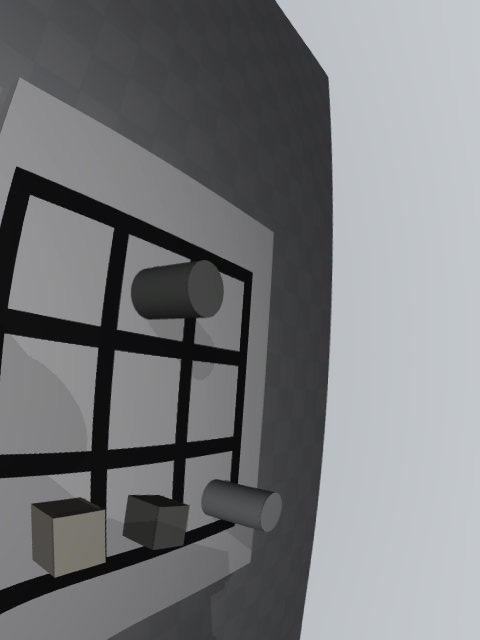can: (201, 479, 282, 532)
cube: (123, 495, 190, 550)
cylinder: (131, 260, 224, 320)
foam: (31, 497, 106, 578)
